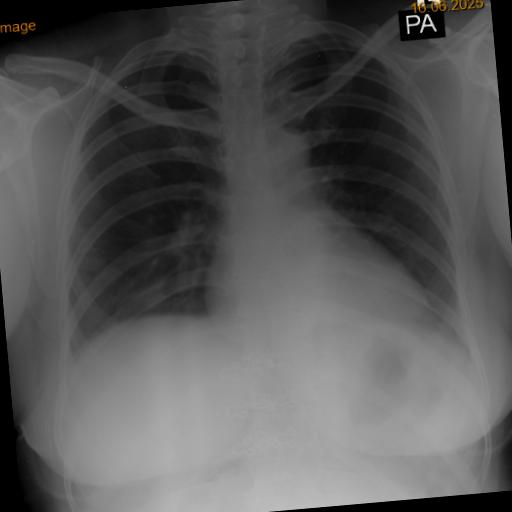kardiomegali: (184, 190, 442, 363)
